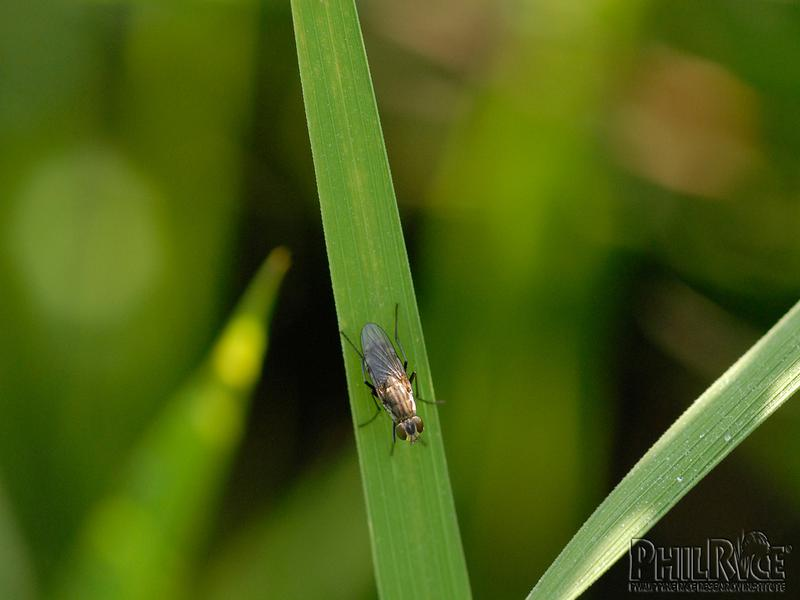Whorl_maggot: (343, 318, 439, 448)
